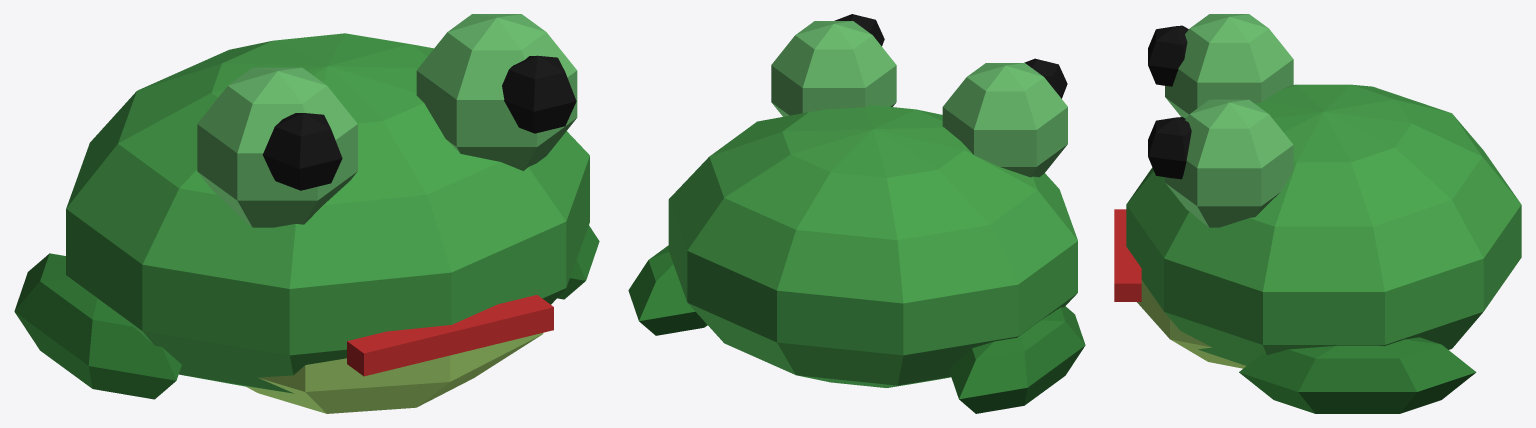
Rendered from frosch.glb.
3 views of the same model, side by side, from view 1: azimuth 30°, elevation 25°; view 2: azimuth 150°, elevation 25°; view 3: azimuth 270°, elevation 25° (orthographic). The views are drawn at different scales.
Parts seen in each view (by area): view 1: frosch.001; view 2: frosch.001; view 3: frosch.001.
Boxes of the visible parts, box(x1,y1,x2,y2) form: frosch.001: box(14, 14, 599, 413); frosch.001: box(628, 14, 1085, 413); frosch.001: box(1114, 14, 1521, 413).
Size of the model in its own units: 0.6986 by 0.475 by 0.6025.
